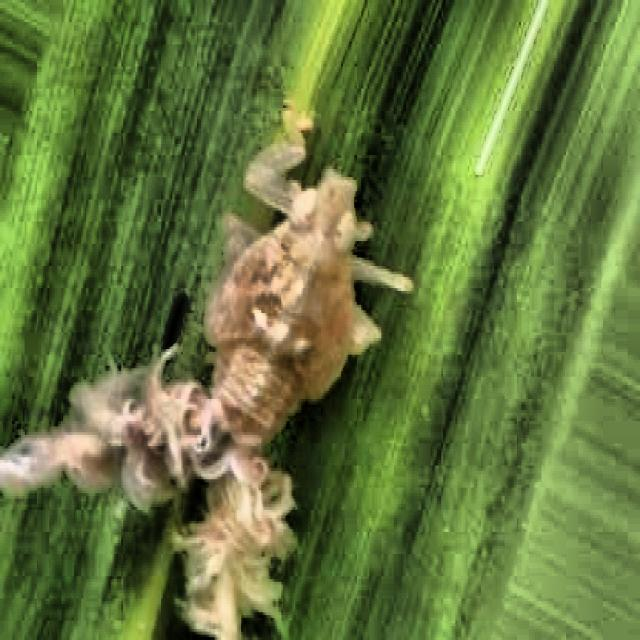Pyrilla-perpusilla: (0, 113, 437, 640)
